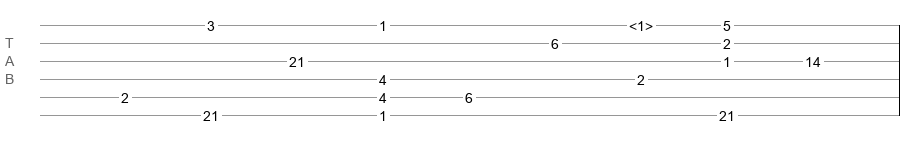1: (379, 108, 387, 118), (379, 18, 387, 28), (723, 54, 731, 64)
14: (805, 54, 821, 64)
2: (121, 90, 129, 100), (637, 72, 645, 82), (723, 36, 731, 46)
21: (203, 108, 219, 118), (289, 54, 305, 64), (719, 108, 735, 118)
3: (207, 18, 215, 28)
4: (379, 72, 387, 82), (379, 90, 387, 100)
5: (723, 18, 731, 28)
6: (465, 90, 473, 100), (551, 36, 559, 46)
harmonic: (629, 18, 653, 28)
